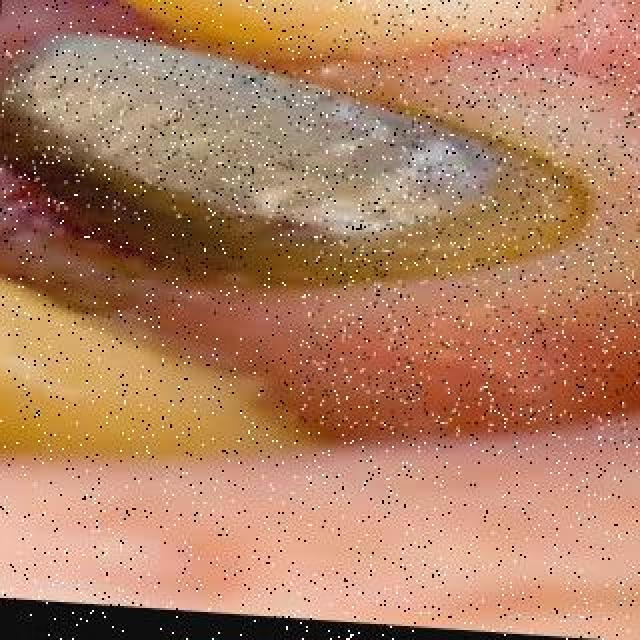cavities: (0, 46, 568, 244)
